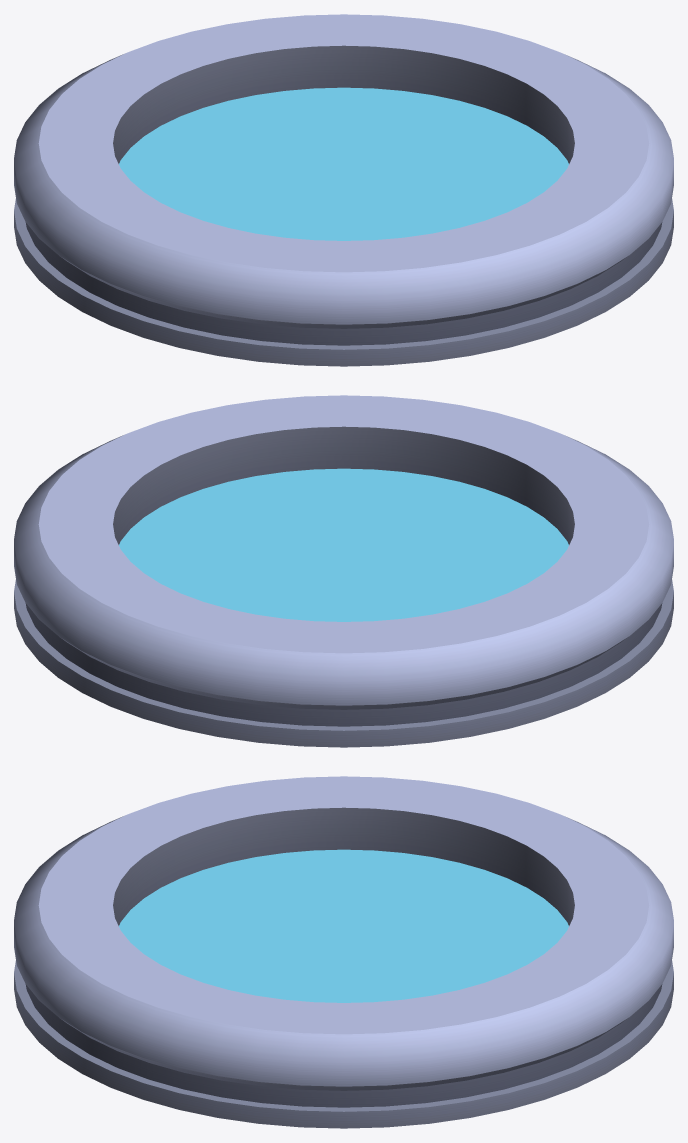
File: fountain-round.fbx
3 renders of one model, top to bottom at view 1: azimuth 30°, elevation 25°; view 2: azimuth 150°, elevation 25°; view 3: azimuth 270°, elevation 25°, orthographic.
Parts seen in each view (by area): view 1: fountain-round, (%ignore); view 2: fountain-round, (%ignore); view 3: fountain-round, (%ignore).
Boxes of the visible parts, left/top/right/bottom form: fountain-round: left=14, top=14, right=673, bottom=366; (%ignore): left=119, top=87, right=568, bottom=240; fountain-round: left=14, top=395, right=673, bottom=747; (%ignore): left=119, top=468, right=568, bottom=621; fountain-round: left=14, top=776, right=673, bottom=1128; (%ignore): left=119, top=849, right=568, bottom=1002.
Bounding box in the file's own units: 200 × 28 × 200.
Materials: 2 (1 with a texture image).
